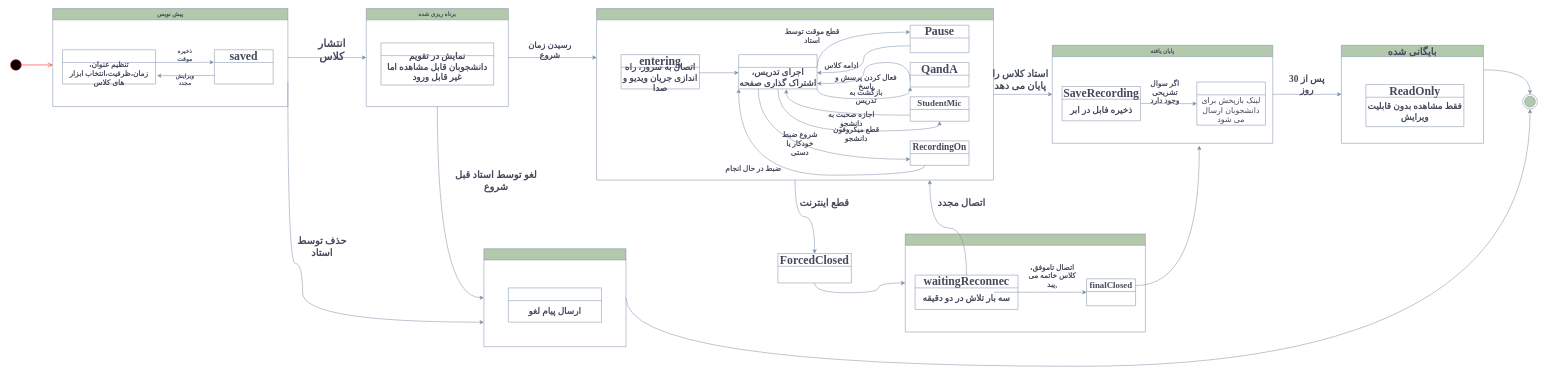
This 1546x375 diagram has some shape labels left out. The box of each missing label's shape, as (x1, y1, x2, y2) in pixels:
Edit: (62, 49, 156, 84)
Lecture: (738, 54, 817, 89)
NotifyCancel: (508, 287, 601, 322)
Recorded: (1196, 82, 1265, 125)
waiting: (380, 42, 494, 85)
تلاش مجدد: (905, 233, 1145, 332)
درحال برگزاری: (596, 8, 993, 180)
لغو شده: (483, 248, 626, 347)
